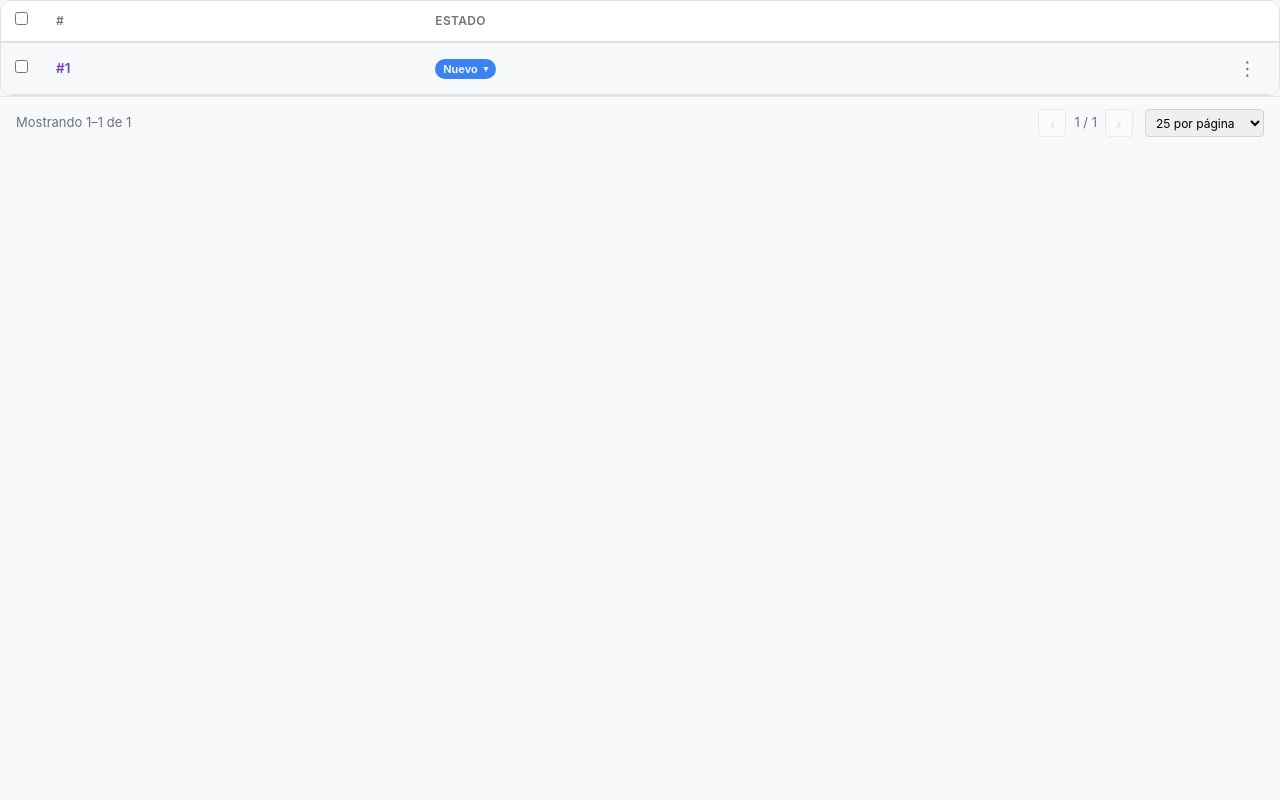
TasksTableView — IClass send feedback › shows a success toast with the iclassOrderCode on success
Click the button with aria-label "Cambiar estado" at (466, 69), box [435,59,496,79]
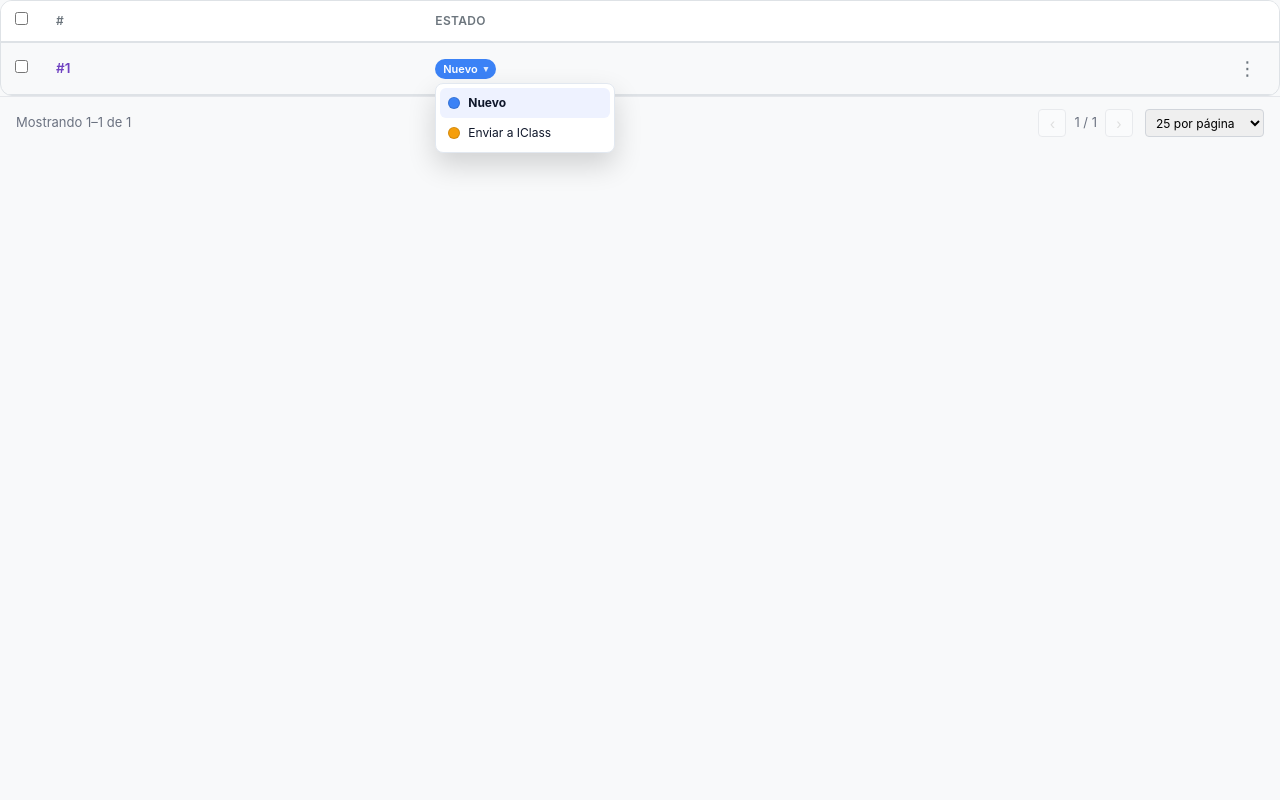
Click the option "Enviar a IClass" at (525, 133), box [440,118,610,148]
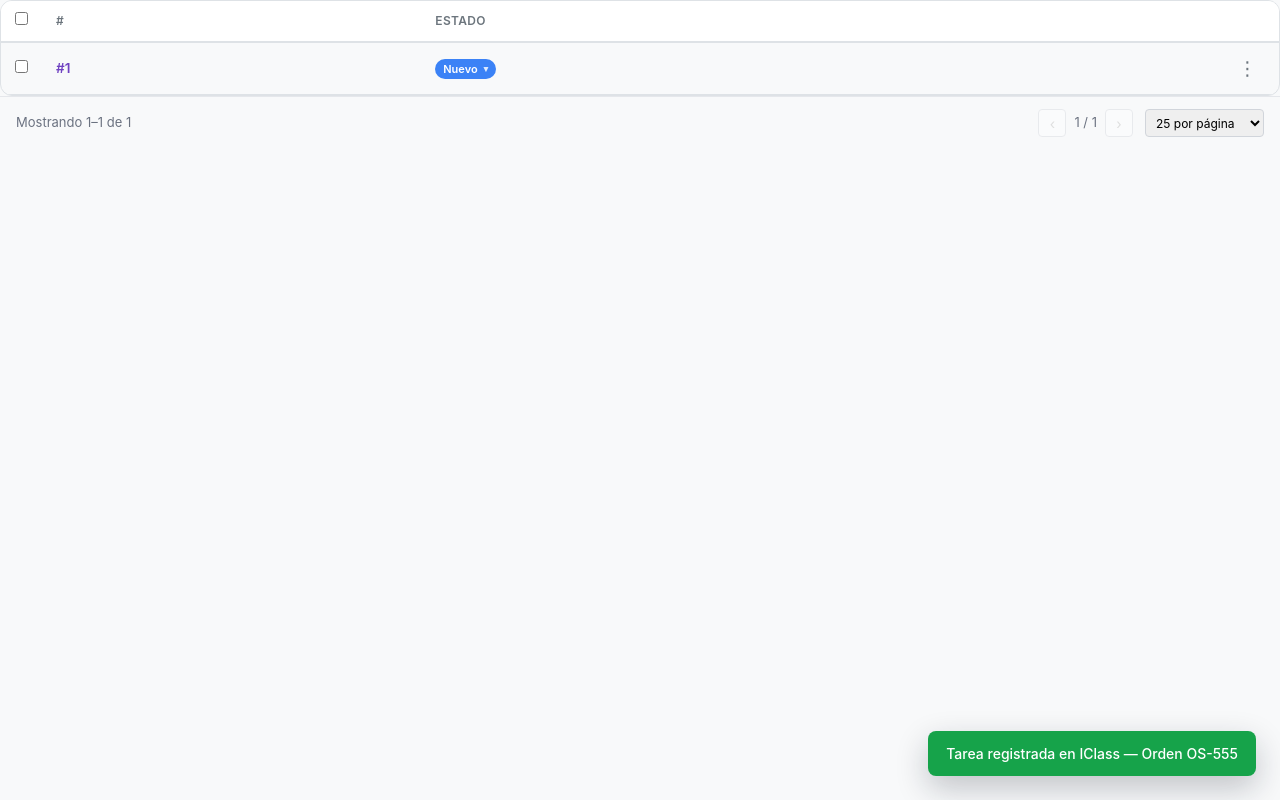
Now the text "Tarea registrada en IClass — Orden OS-555" is shown, box [928,731,1256,776]
